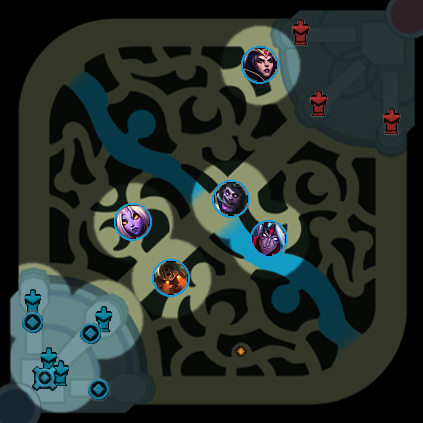DrMundo: (212, 180, 250, 218)
Leblanc: (241, 46, 279, 84)
Nautilus: (152, 259, 190, 297)
Soraka: (114, 203, 152, 241)
Varus: (250, 220, 288, 258)
